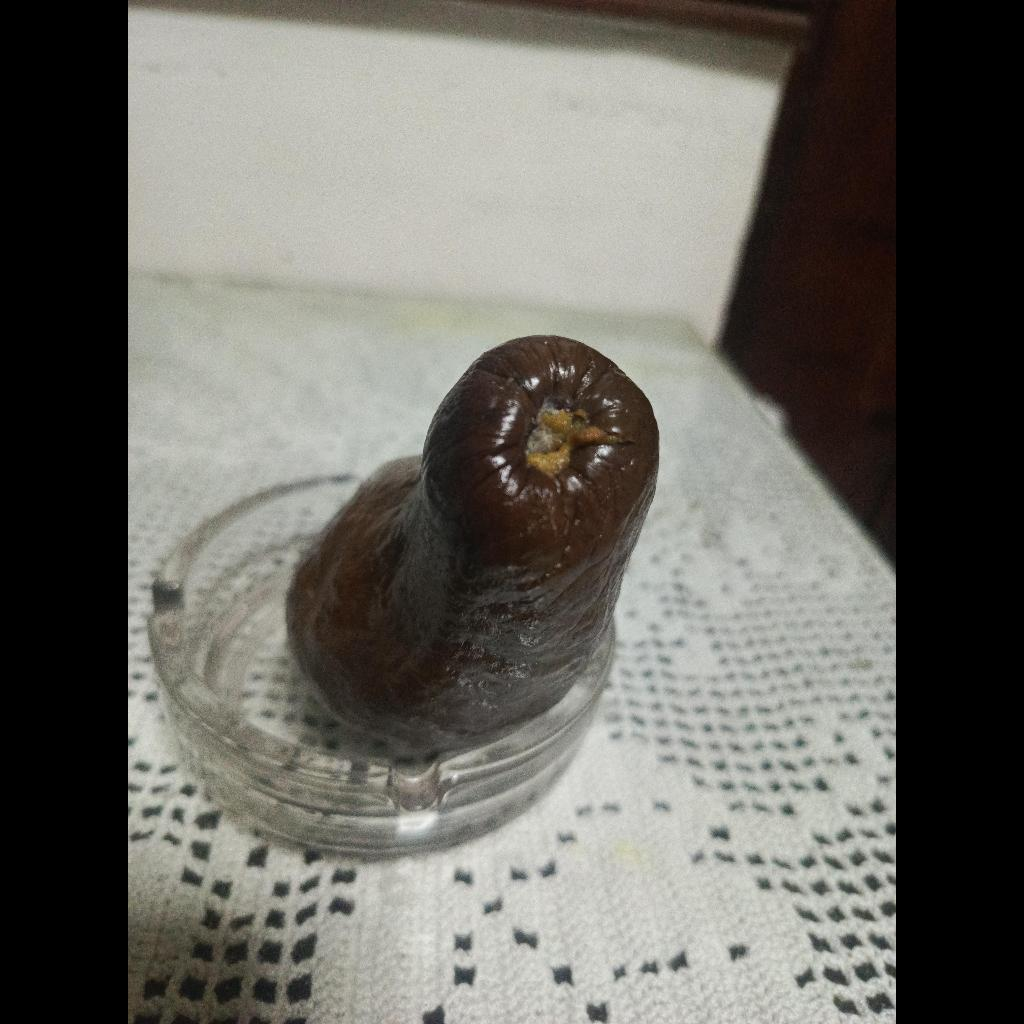pudricion_peduncular: (286, 336, 659, 753)
